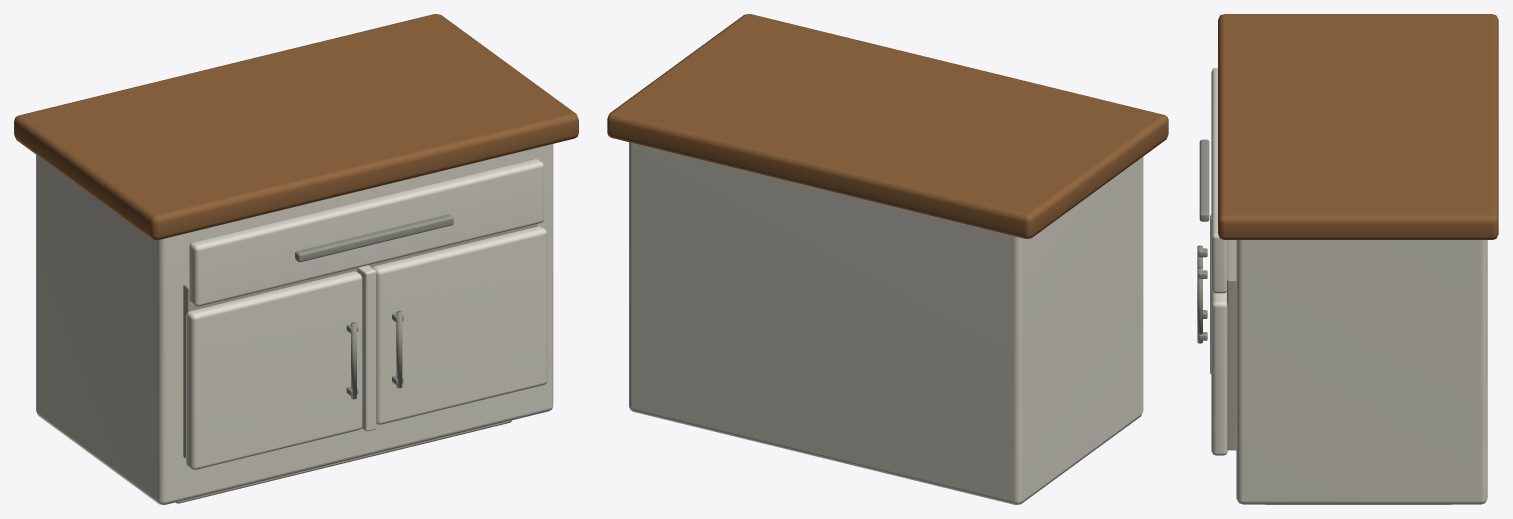
The model's file is Lower_Kitchen_Cabinet.obj.
3 views of the same model, side by side, from view 1: azimuth 30°, elevation 25°; view 2: azimuth 150°, elevation 25°; view 3: azimuth 270°, elevation 25° (orthographic).
Parts seen in each view (by area): view 1: SM_Lower_Kitchen_Cabinet_Countertop, SM_Lower_Kitchen_Cabinet_Body, SM_Lower_Kitchen_Cabinet_Left_Door, SM_Lower_Kitchen_Cabinet_Right_Door, SM_Lower_Kitchen_Cabinet_Drawer, SM_Lower_Kitchen_Cabinet_Center_Divider, SM_Lower_Kitchen_Cabinet_Drawer_Handle, SM_Lower_Kitchen_Cabinet_Interior, SM_Lower_Kitchen_Cabinet_Base; view 2: SM_Lower_Kitchen_Cabinet_Body, SM_Lower_Kitchen_Cabinet_Countertop; view 3: SM_Lower_Kitchen_Cabinet_Body, SM_Lower_Kitchen_Cabinet_Countertop, SM_Lower_Kitchen_Cabinet_Right_Door, SM_Lower_Kitchen_Cabinet_Drawer, SM_Lower_Kitchen_Cabinet_Interior, SM_Lower_Kitchen_Cabinet_Drawer_Handle, SM_Lower_Kitchen_Cabinet_Right_Handle_Bar.
Boxes of the visible parts, x1,y1,x2,y2 form: SM_Lower_Kitchen_Cabinet_Countertop: (14,14,578,240); SM_Lower_Kitchen_Cabinet_Body: (36,144,553,504); SM_Lower_Kitchen_Cabinet_Left_Door: (186,271,362,469); SM_Lower_Kitchen_Cabinet_Right_Door: (372,226,547,424); SM_Lower_Kitchen_Cabinet_Drawer: (189,159,543,306); SM_Lower_Kitchen_Cabinet_Center_Divider: (357,265,376,431); SM_Lower_Kitchen_Cabinet_Drawer_Handle: (295,214,453,262); SM_Lower_Kitchen_Cabinet_Interior: (183,224,537,458); SM_Lower_Kitchen_Cabinet_Base: (175,420,511,503); SM_Lower_Kitchen_Cabinet_Body: (629,142,1143,504); SM_Lower_Kitchen_Cabinet_Countertop: (607,14,1168,238); SM_Lower_Kitchen_Cabinet_Body: (1236,240,1487,504); SM_Lower_Kitchen_Cabinet_Countertop: (1218,14,1498,239); SM_Lower_Kitchen_Cabinet_Right_Door: (1211,289,1227,455); SM_Lower_Kitchen_Cabinet_Drawer: (1211,68,1227,293); SM_Lower_Kitchen_Cabinet_Interior: (1227,240,1236,450); SM_Lower_Kitchen_Cabinet_Drawer_Handle: (1199,139,1209,221); SM_Lower_Kitchen_Cabinet_Right_Handle_Bar: (1197,267,1202,343).
Size of the model in its own units: 1.32 by 0.9275 by 0.816.
